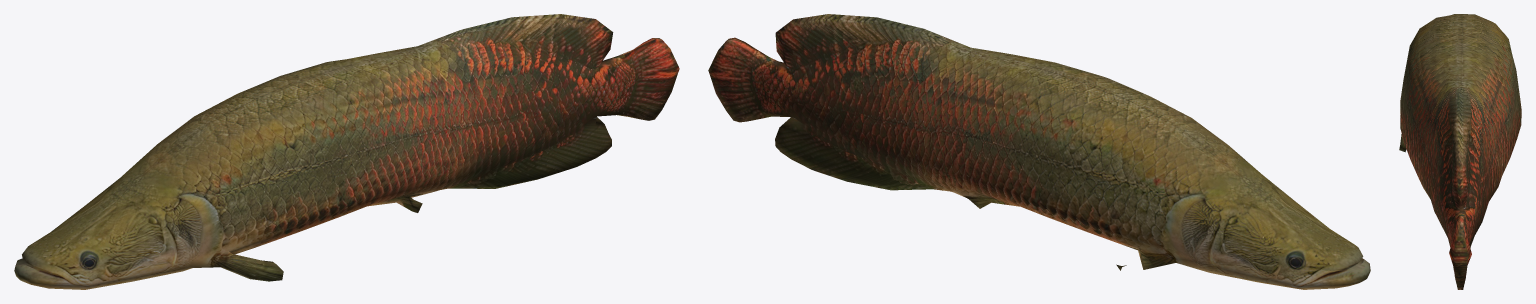
The model's file is arapaima.glb.
3 renders of one model, left to right at view 1: azimuth 30°, elevation 25°; view 2: azimuth 150°, elevation 25°; view 3: azimuth 270°, elevation 25°, orthographic. The views are drawn at different scales.
Visible parts, largest first — view 1: tripo_node_e4a350e6; view 2: tripo_node_e4a350e6; view 3: tripo_node_e4a350e6.
Boxes of the visible parts, box(x1,y1,x2,y2) form: tripo_node_e4a350e6: box(14, 14, 679, 289); tripo_node_e4a350e6: box(708, 14, 1370, 289); tripo_node_e4a350e6: box(1399, 14, 1521, 289).
Size of the model in its own units: 97.59 by 24.84 by 18.21.
1 material, 1 textured.
